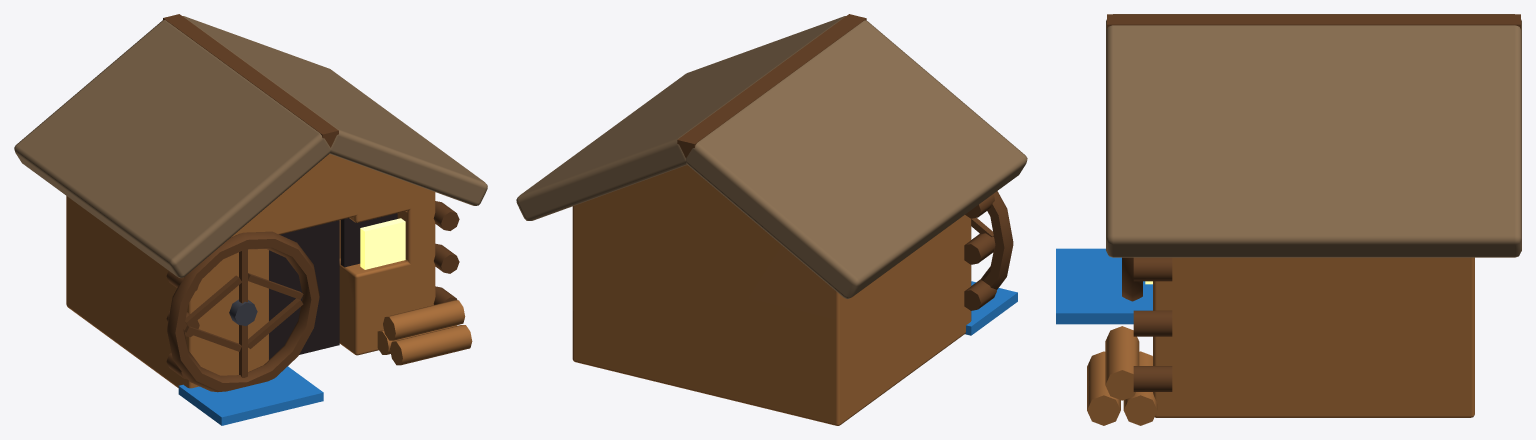
Rendered from Buildings__lumber_camp.glb.
The picture shows the model from 3 angles, left to right: view 1: azimuth 30°, elevation 25°; view 2: azimuth 150°, elevation 25°; view 3: azimuth 270°, elevation 25°; orthographic projection. The views are drawn at different scales.
Parts seen in each view (by area): view 1: lumber_camp_mesh; view 2: lumber_camp_mesh; view 3: lumber_camp_mesh.
Boxes of the visible parts, left/top/right/bottom form: lumber_camp_mesh: left=14, top=14, right=487, bottom=425; lumber_camp_mesh: left=516, top=14, right=1027, bottom=425; lumber_camp_mesh: left=1056, top=14, right=1521, bottom=425.
Size of the model in its own units: 2.34 by 1.74 by 2.28.
